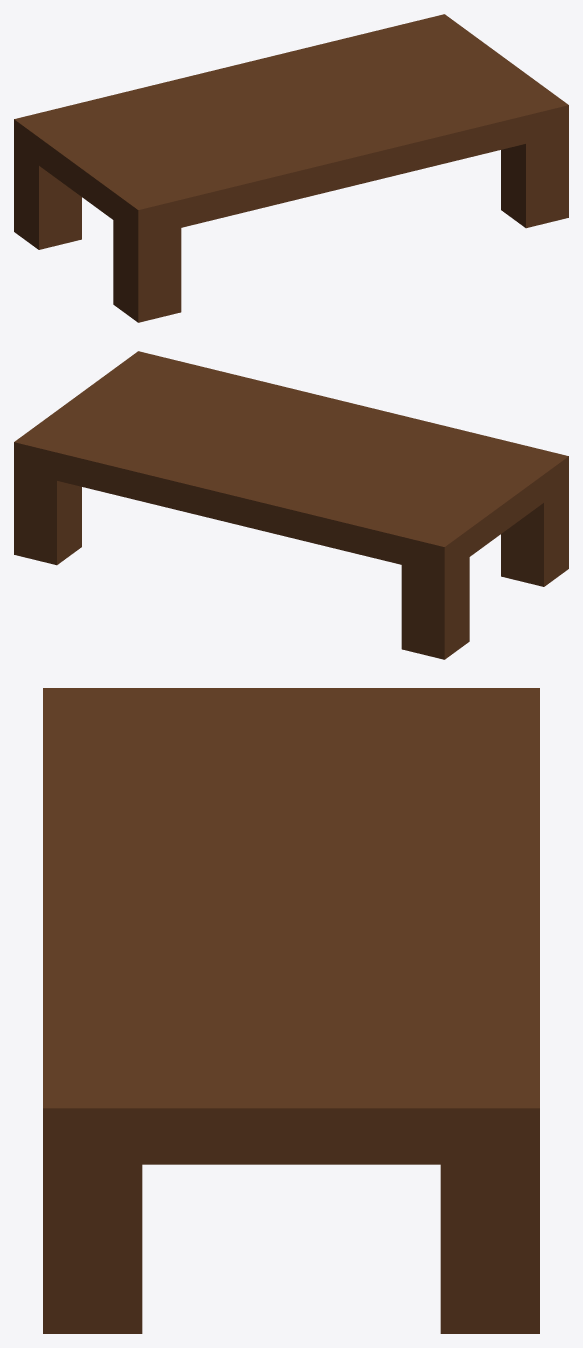
File: Coffee Table.fbx
3 renders of one model, top to bottom at view 1: azimuth 30°, elevation 25°; view 2: azimuth 150°, elevation 25°; view 3: azimuth 270°, elevation 25°, orthographic. The views are drawn at different scales.
Visible parts, largest first — view 1: Coffee Table; view 2: Coffee Table; view 3: Coffee Table.
Part boxes in pixels (box(x1,y1,x2,y2)): Coffee Table: box(14, 14, 568, 322); Coffee Table: box(14, 351, 568, 659); Coffee Table: box(43, 688, 539, 1333).
Size of the model in its own units: 400 by 100 by 200.
